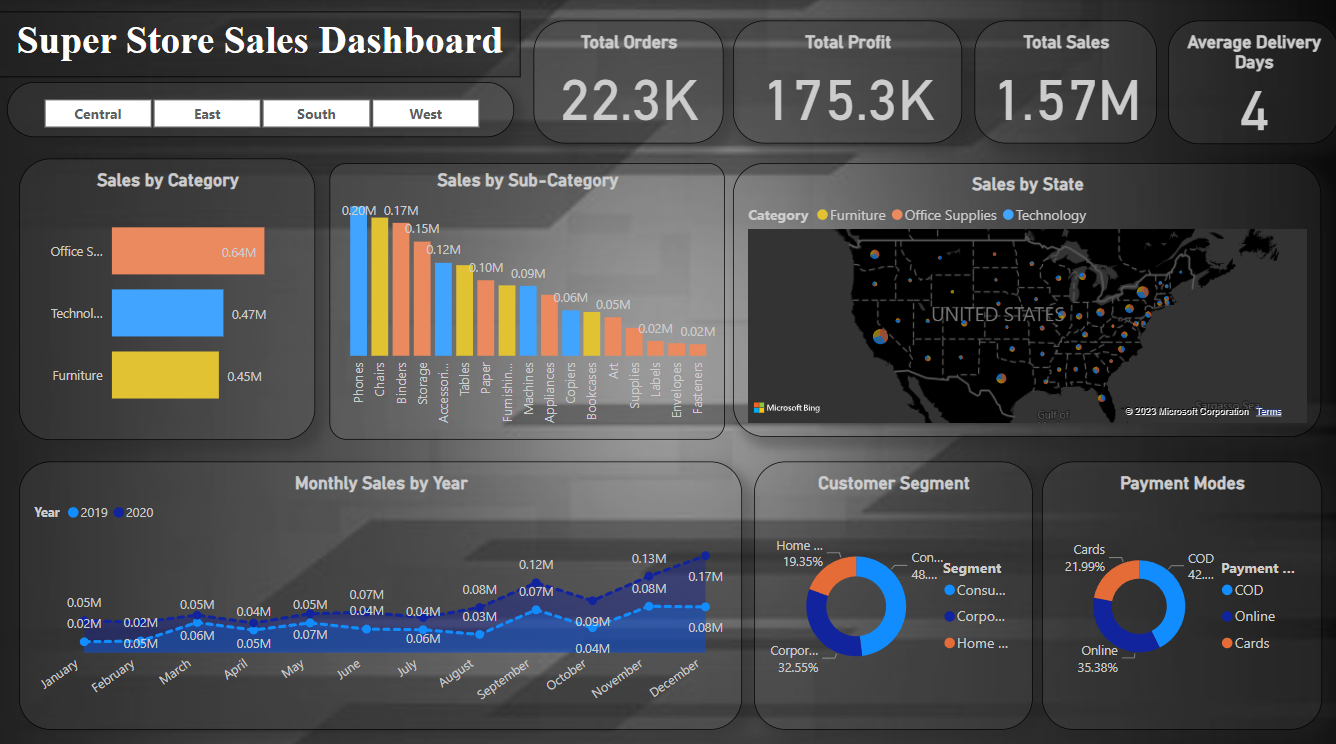

The page's visual inventory and layout, read from the dashboard file:
{"tool":"powerbi","page":{"name":"Dashboard","canvas":[1280,720],"ordinal":0},"visuals":[{"type":"barChart","title":"Sales by Category","fields":{"Category":["SuperStore_Sales_Dataset.Category"],"Y":["Sum(SuperStore_Sales_Dataset.Sales)"]},"box":[20,152.9,282.9,268.6],"z":0},{"type":"columnChart","title":"Sales by Sub-Category","fields":{"Category":["SuperStore_Sales_Dataset.Sub-Category"],"Y":["Sum(SuperStore_Sales_Dataset.Sales)"]},"box":[315.7,157.1,377.1,264.3],"z":1000},{"type":"areaChart","title":"Monthly Sales by Year","fields":{"Category":["SuperStore_Sales_Dataset.Order Date.Variation.Date Hierarchy.Month"],"Series":["SuperStore_Sales_Dataset.Order Date.Variation.Date Hierarchy.Year"],"Y":["Sum(SuperStore_Sales_Dataset.Sales)"]},"box":[20,442.9,690,255.7],"z":2000},{"type":"map","title":"Sales by State","fields":{"Category":["SuperStore_Sales_Dataset.State"],"Size":["Sum(SuperStore_Sales_Dataset.Sales)"],"Series":["SuperStore_Sales_Dataset.Category"]},"box":[701.4,157.1,561.4,261.4],"z":3000},{"type":"donutChart","title":"Customer Segment","fields":{"Category":["SuperStore_Sales_Dataset.Segment"],"Y":["Sum(SuperStore_Sales_Dataset.Sales)"]},"box":[721.4,442.9,265.7,255.7],"z":4000},{"type":"donutChart","title":"Payment Modes","fields":{"Y":["Sum(SuperStore_Sales_Dataset.Sales)"],"Category":["SuperStore_Sales_Dataset.Payment Mode"]},"box":[995.7,442.9,267.1,255.7],"z":5000},{"type":"slicer","fields":{"Values":["SuperStore_Sales_Dataset.Region"]},"box":[8.6,80,484.3,52.9],"z":6000},{"type":"textbox","box":[0,12.9,498.6,62.9],"z":7000},{"type":"card","title":"Total Profit","fields":{"Values":["Sum(SuperStore_Sales_Dataset.Profit)"]},"box":[701.4,21.4,218.6,117.1],"z":8000},{"type":"card","title":"Total Sales","fields":{"Values":["Sum(SuperStore_Sales_Dataset.Sales)"]},"box":[931.4,21.4,174.3,117.1],"z":9000},{"type":"card","title":"Average Delivery Days","fields":{"Values":["Avg(SuperStore_Sales_Dataset.AvgDeliveryDate)"]},"box":[1117.1,21.4,145.7,117.1],"z":10000},{"type":"card","title":"Total Orders","fields":{"Values":["Sum(SuperStore_Sales_Dataset.Quantity)"]},"box":[511.4,21.4,181.4,117.1],"z":10001}]}

Visuals, with their boxes in screenshot pixels (x1, y1, x2, y2), scaled from the page's 1280x720 canvas onto the 1336x744 screenshot:
"Sales by Category" barChart: 21/158/316/436
"Sales by Sub-Category" columnChart: 330/162/723/435
"Monthly Sales by Year" areaChart: 21/458/741/722
"Sales by State" map: 732/162/1318/432
"Customer Segment" donutChart: 753/458/1030/722
"Payment Modes" donutChart: 1039/458/1318/722
slicer - SuperStore_Sales_Dataset.Region: 9/83/514/137
textbox: 0/13/520/78
"Total Profit" card: 732/22/960/143
"Total Sales" card: 972/22/1154/143
"Average Delivery Days" card: 1166/22/1318/143
"Total Orders" card: 534/22/723/143
